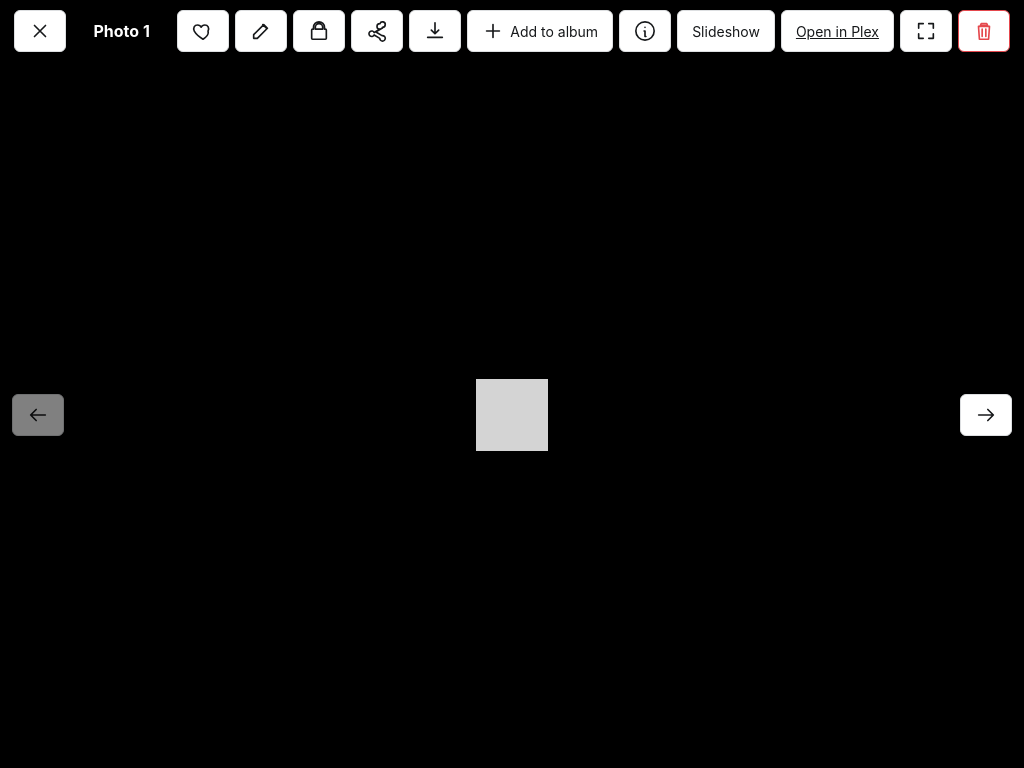
Viewer keyboard handling › ignores arrows and Escape typed into the rename field
Double-click the text "Photo 1" at {"x": 122, "y": 31}, box [94,21,150,41]
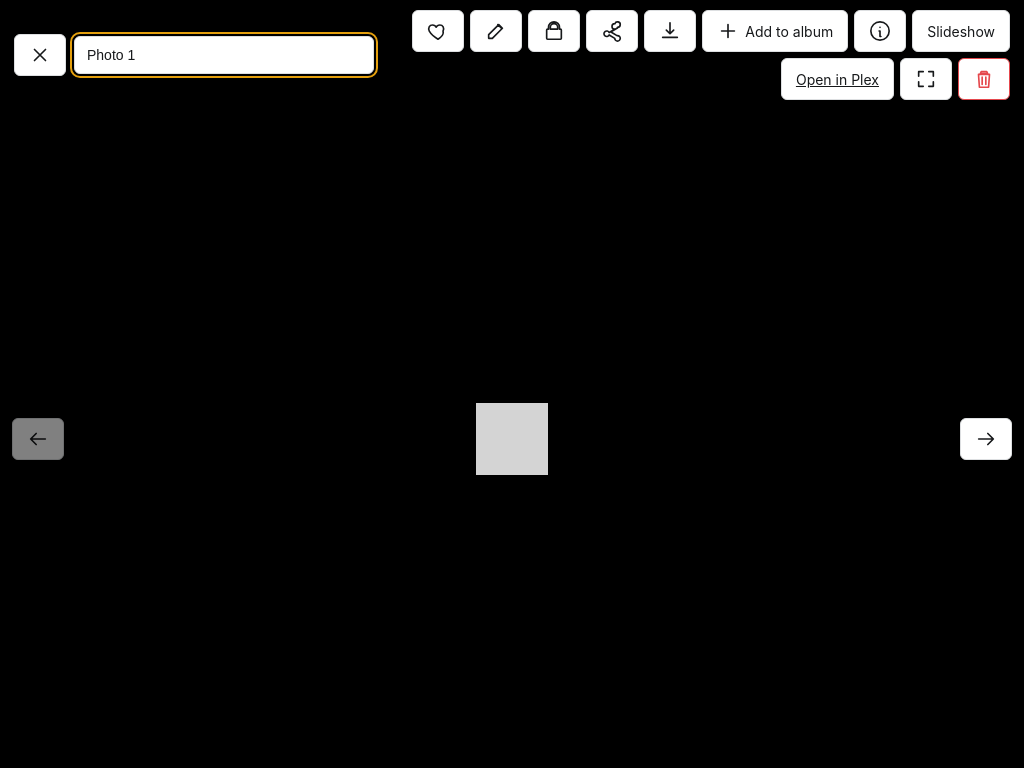
Press ArrowRight in the field named "Title", box [74,36,374,74]
Press ArrowLeft in the field named "Title", box [74,36,374,74]
Note: Escape cancels the rename but keeps the viewer open.
Press Escape in the field named "Title", box [74,36,374,74]
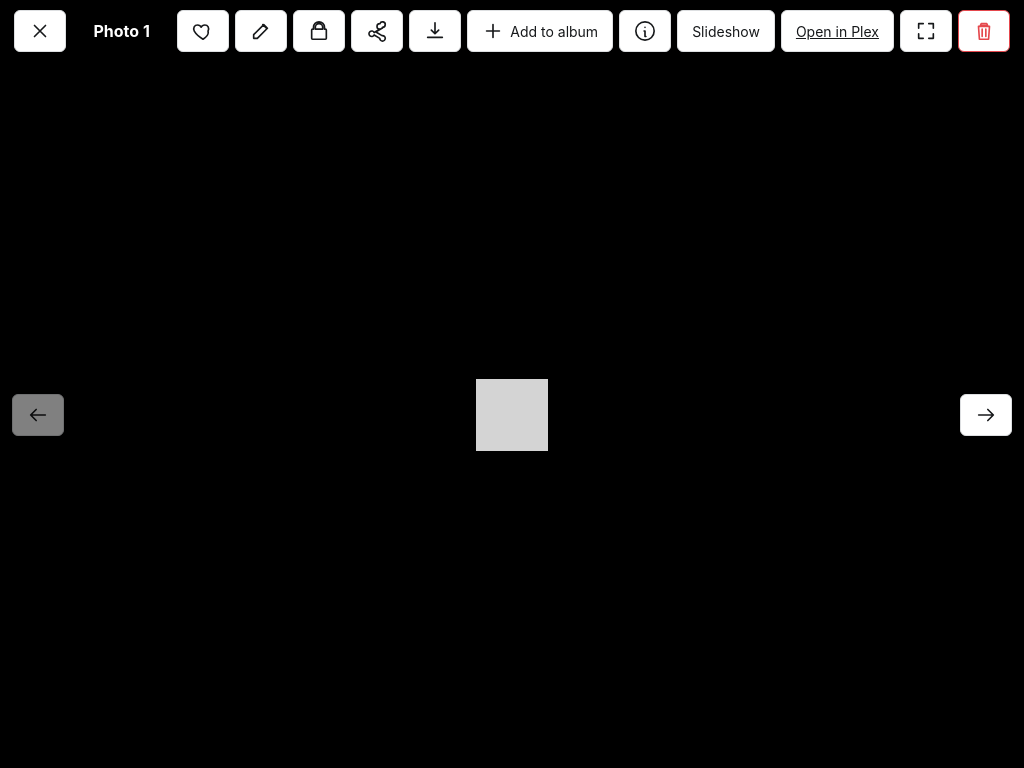
Expected: the text with test id "location" reads "/photos/view/1", [0,0,111,20]
Result: the field labelled "Title" is gone
